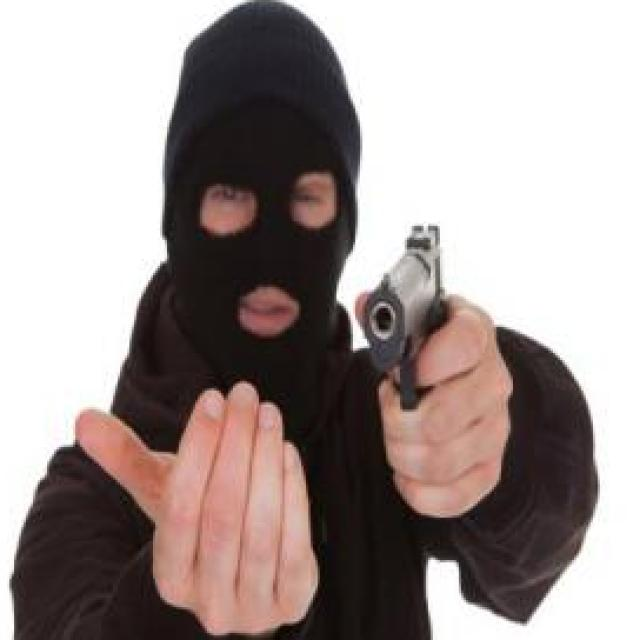pistol: (362, 226, 452, 414)
